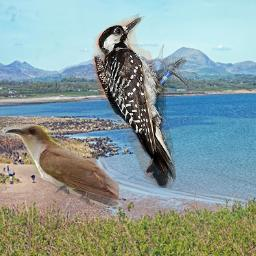Cuckoo: (2, 125, 119, 211)
Woodpecker: (86, 11, 200, 188)
